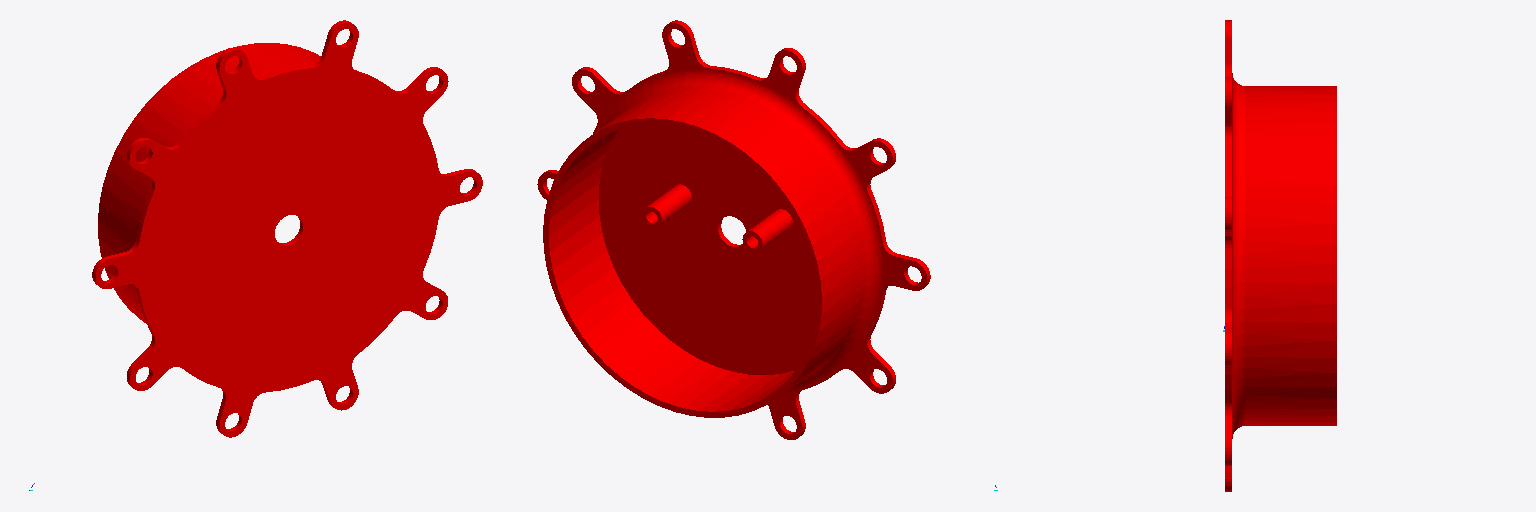
URDF robot description (pi_robot):
<?xml version="1.0"?>

<robot name="pi_robot">

	<!-- * * * Link Definitions * * * -->

 	<link name="base_link">
		<visual>
		    <origin xyz="0 0 0" rpy="0 0 0"/>
			<geometry>
				<box size="1 1 0.05"/>
				
			</geometry>
			<material name="Cyan1">
	       		<color rgba="0 0.9 0.9 1.0"/>
	     	</material>
		</visual>	
	</link>
	
 	<link name="ana_govde_link">
		<visual>
		    <origin xyz="0 0 0" rpy="0 0 0"/>
			<geometry>
				<!-- <cylinder radius="0.25" length="1"/> -->
				<mesh filename = "alttaban.STL" />
			</geometry>
			<material name="Red">
	       		<color rgba="1 0 0 1.0"/>
	     	</material>
		</visual>	
	</link>
	
	<link name="alt_kol_link">
		<visual>
		    <origin xyz="0 0 0" rpy="0 0 0"/>
			<geometry>
				<box size="0.2 0.2 1"/>
			</geometry>
			<material name="Blue">
	       		<color rgba="0.4 0.2 1 1.0"/>
	     	</material>
		</visual>	
	</link>

  	<link name="ust_kol_link">
		<visual>
			<origin xyz="0 0 0" rpy="0 0 1"/>
			<geometry>
				<cylinder radius="0.05" length="1"/>
			</geometry>
	     	<material name="Green">
				<color rgba="0.4 0.6 0 0"/>
			</material>
	   </visual>
	</link>

	
	<!-- * * * Joint Definitions * * * -->
	
	<joint name="ana_govde_joint" type="revolute">
    	<parent link="base_link"/>
    	<child link="ana_govde_link"/>
    	<origin xyz="0 0 0.5" rpy="0 0 0"/>
		<axis xyz="0 0 1"/>
		<limit lower="-3.1416" upper="3.1416" effort="10" velocity="3"/>
	</joint>
	
	<joint name="alt_kol_joint" type="revolute">
    	<parent link="ana_govde_link"/>
    	<child link="alt_kol_link"/>
    	<origin xyz="0.25 0 .8" rpy="0 0.5 0"/>	
		<axis xyz="0 1 0"/>
		<limit lower="-3.1416" upper="3.1416" effort="10" velocity="3"/>
	</joint>

	<joint name="ust_kol_joint" type="revolute">
    	<parent link="alt_kol_link"/>
    	<child link="ust_kol_link"/>
    	<origin xyz="0.25 0 0.8" rpy="0 0.5 0"/>
		<axis xyz="0 1 0"/>
		<limit lower="-3.1416" upper="3.1416" effort="10" velocity="3"/>
	</joint>
	

	
	<!-- * * * Joint Definitions * * * 
	<joint name="ana_govde_joint" type="revolute">
    	<parent link="base_link"/>
    	<child link="ana_govde_link"/>
    	<origin xyz="0 0 0.5" rpy="0 0 0"/>
		<axis xyz="0 0 1"/>
		<limit lower="-3.1416" upper="3.1416" effort="10" velocity="3"/>
	</joint>
	
	<joint name="alt_kol_joint" type="revolute">
    	<parent link="ana_govde_link"/>
    	<child link="alt_kol_link"/>
    	<origin xyz="0 0 1" rpy="0 0 0"/>	
		<axis xyz="0 1 0"/>
		<limit lower="-3.1416" upper="3.1416" effort="10" velocity="3"/>
	</joint>

	<joint name="ust_kol_joint" type="revolute">
    	<parent link="alt_kol_link"/>
    	<child link="ust_kol_link"/>
    	<origin xyz="0 0 1" rpy="0 0 0"/>
		<axis xyz="0 1 0"/>
		<limit lower="-3.1416" upper="3.1416" effort="10" velocity="3"/>
	</joint>
	
	-->
	
	
	
	
	
	

</robot>

--- What the picture shows (computed from the rendered views, not written in the file) ---
Views: 3 orthographic renders of the robot side by side, from view 1: azimuth 30°, elevation 25°; view 2: azimuth 150°, elevation 25°; view 3: azimuth 270°, elevation 25°.
Robot: pi_robot — 4 links, 3 joints (3 revolute); root link base_link; default pose: all joints at 0.
Links seen in each view (by area): view 1: ana_govde_link; view 2: ana_govde_link; view 3: ana_govde_link.
Boxes of the visible links, left/top/right/bottom form: ana_govde_link: left=92, top=20, right=482, bottom=437; ana_govde_link: left=537, top=20, right=930, bottom=439; ana_govde_link: left=1225, top=20, right=1336, bottom=491.
Size in the robot's own frame: 159 by 32.82 by 131 metres.
1 mesh visuals loaded from 1 distinct referenced files (1 binary STL).
